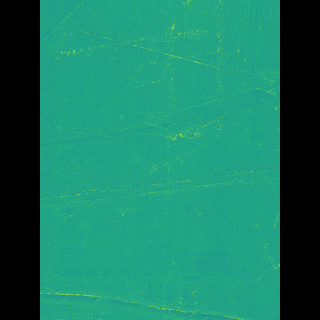Loch: (70, 68, 250, 177), (68, 239, 222, 320), (69, 158, 250, 215)
